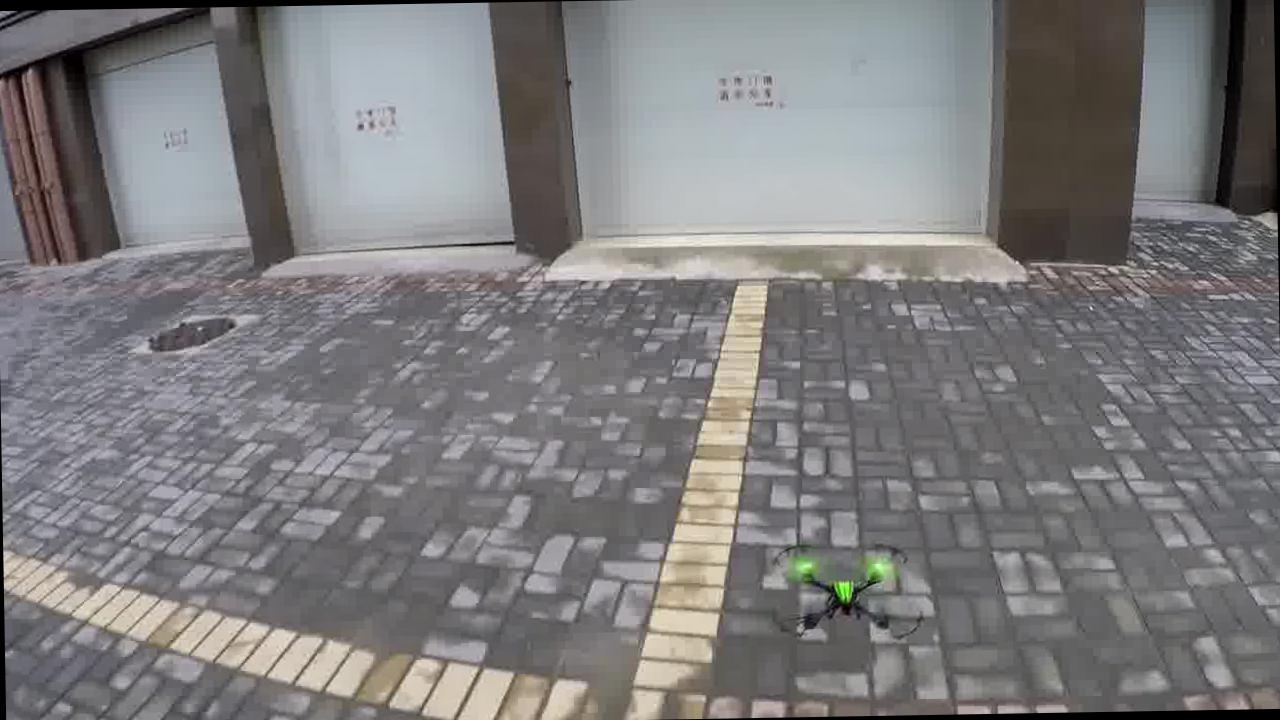drone: (754, 540, 934, 662)
